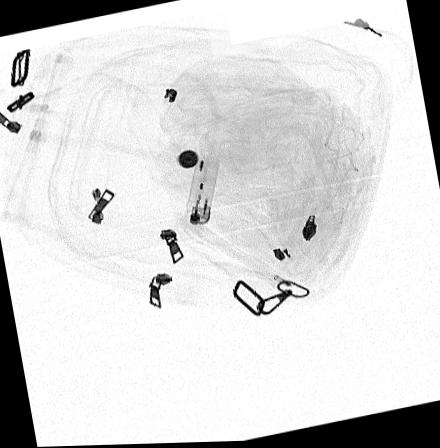Lighter: (184, 158, 219, 226)
